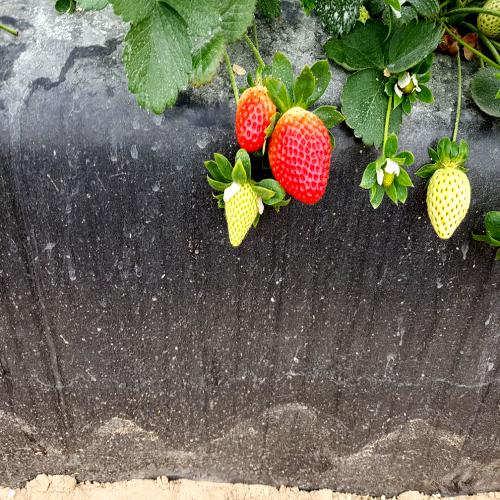partially-ripe: (230, 75, 275, 160)
ripe: (269, 100, 334, 212)
